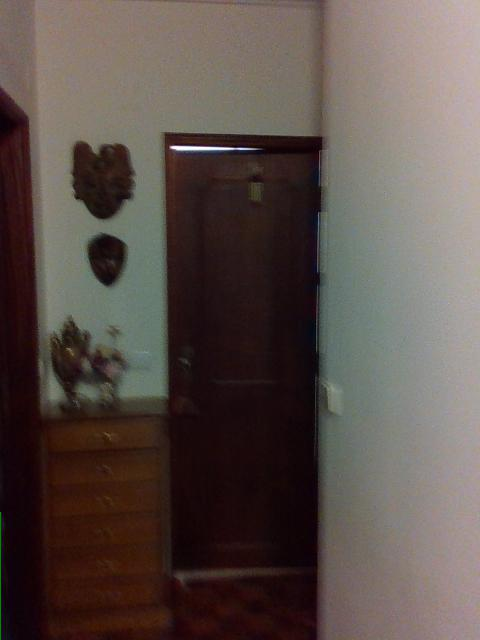closed_door: (161, 131, 321, 569)
